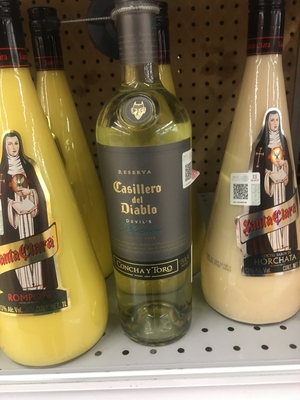casillero del diablo devils collection verde: (86, 22, 198, 349)
